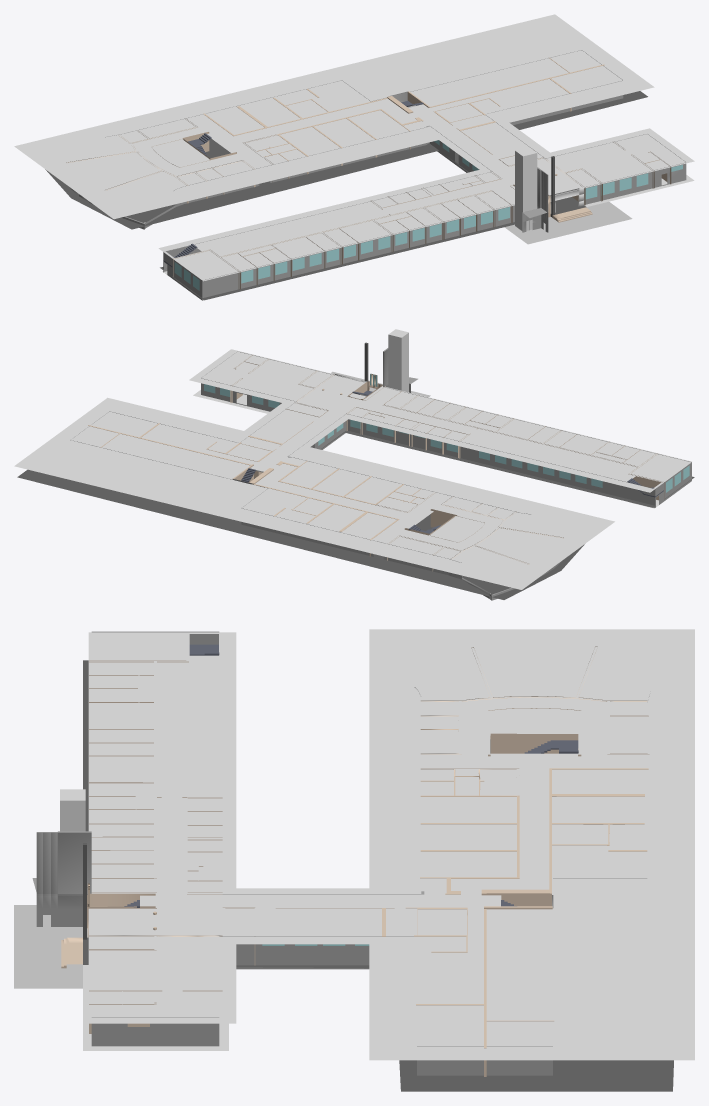
Rendered from ANS Main LVL0.fbx.
3 renders of one model, top to bottom at view 1: azimuth 30°, elevation 25°; view 2: azimuth 150°, elevation 25°; view 3: azimuth 270°, elevation 25°, orthographic. The views are drawn at different scales.
Parts seen in each view (by area): view 1: Ceiling0.001, Ceiling0, WallsOutside0, WallsInside0, Floor0.003, Ceiling0.002, Floor0.001, Floor0, a.winda; view 2: Ceiling0.001, Ceiling0, WallsOutside0, Floor0.003, WallsInside0, Ceiling0.002, Floor0.001, a.winda; view 3: Ceiling0.001, Ceiling0, WallsOutside0, WallsInside0, Ceiling0.002, Floor0.003, Floor0, Floor0.001, a.winda.
Boxes of the visible parts, box(x1,y1,x2,y2) form: Ceiling0.001: box(14, 14, 654, 219); Ceiling0: box(158, 128, 694, 281); WallsOutside0: box(69, 50, 686, 300); WallsInside0: box(66, 57, 671, 289); Floor0.003: box(45, 91, 647, 229); Ceiling0.002: box(439, 123, 549, 169); Floor0.001: box(160, 156, 694, 300); Floor0: box(504, 201, 632, 244); a.winda: box(515, 147, 537, 230); Ceiling0.001: box(14, 397, 614, 589); Ceiling0: box(189, 349, 691, 492); WallsOutside0: box(70, 348, 691, 600); Floor0.003: box(17, 469, 584, 599); WallsInside0: box(88, 355, 664, 571); Ceiling0.002: box(244, 403, 347, 446); Floor0.001: box(193, 342, 694, 507); a.winda: box(388, 329, 408, 392); Ceiling0.001: box(369, 629, 694, 1060); Ceiling0: box(88, 632, 236, 1023); WallsOutside0: box(32, 631, 649, 1075); WallsInside0: box(61, 646, 649, 1076); Ceiling0.002: box(236, 888, 369, 944); Floor0.003: box(399, 739, 673, 1091); Floor0: box(14, 905, 87, 988); Floor0.001: box(83, 660, 228, 1050); a.winda: box(60, 789, 85, 831).
Bounding box in the file's own units: 9535 × 1312 × 6326.
